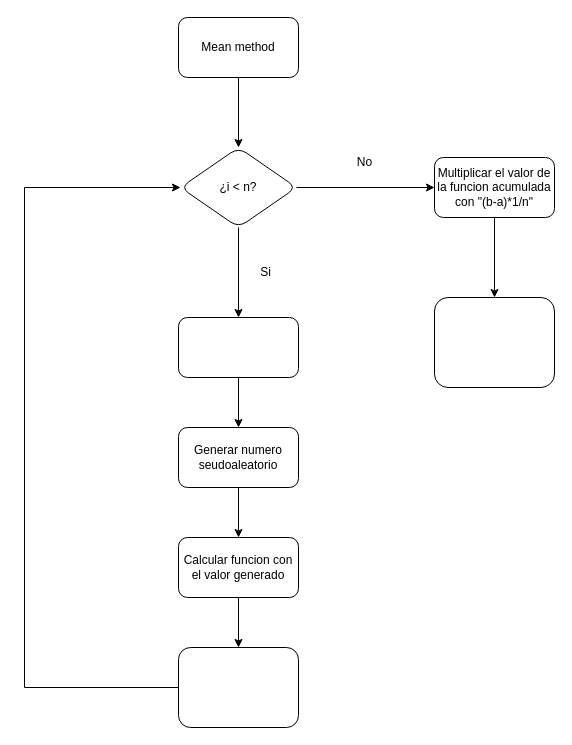
This 572x745 diagram has some shape labels left out. Each missing label, with the centre of its shape:
"Devolver el valor e la integral con el numero de numeros aleatoreos generados" goes at point (494, 342).
"i = i + 1" goes at point (238, 347).
"Sumar el valor de la funcion a el generado previamente" goes at point (238, 687).
